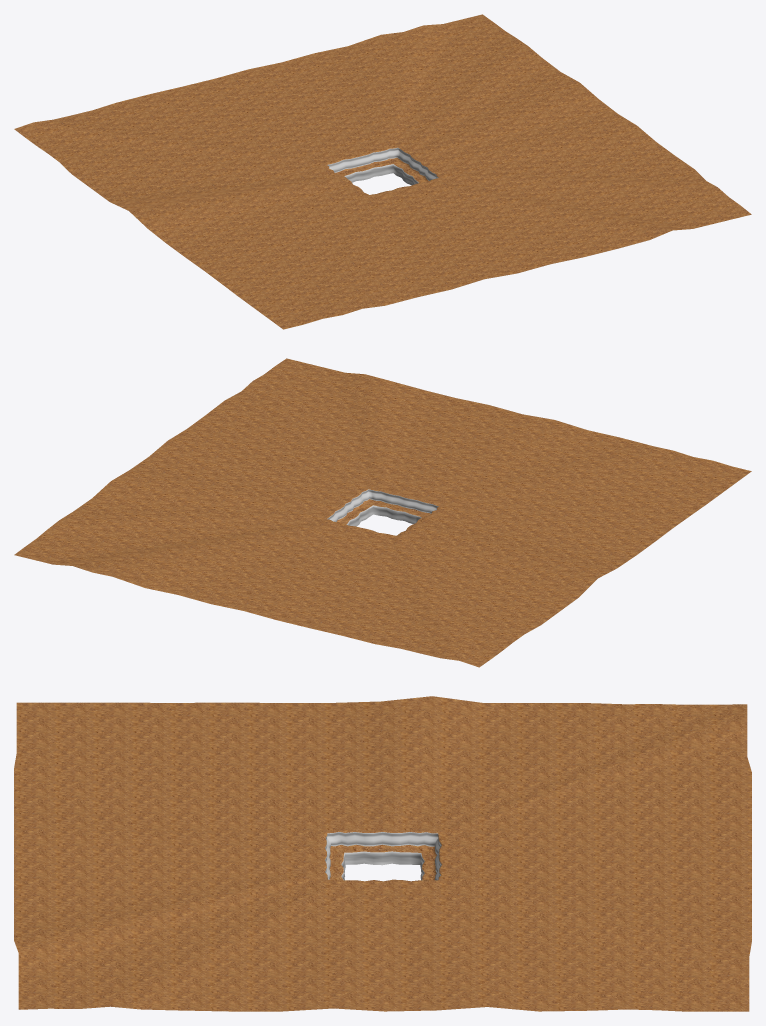
Rendered from env.fbx.
3 renders of one model, top to bottom at view 1: azimuth 30°, elevation 25°; view 2: azimuth 150°, elevation 25°; view 3: azimuth 270°, elevation 25°, orthographic. The views are drawn at different scales.
Visible parts, largest first — view 1: Plane.003; view 2: Plane.003; view 3: Plane.003.
Part boxes in pixels (box(x1,y1,x2,y2)): Plane.003: box(14, 14, 751, 329); Plane.003: box(14, 358, 751, 667); Plane.003: box(14, 696, 751, 1011).
Bounding box in the file's own units: 15598 × 708 × 15741.
